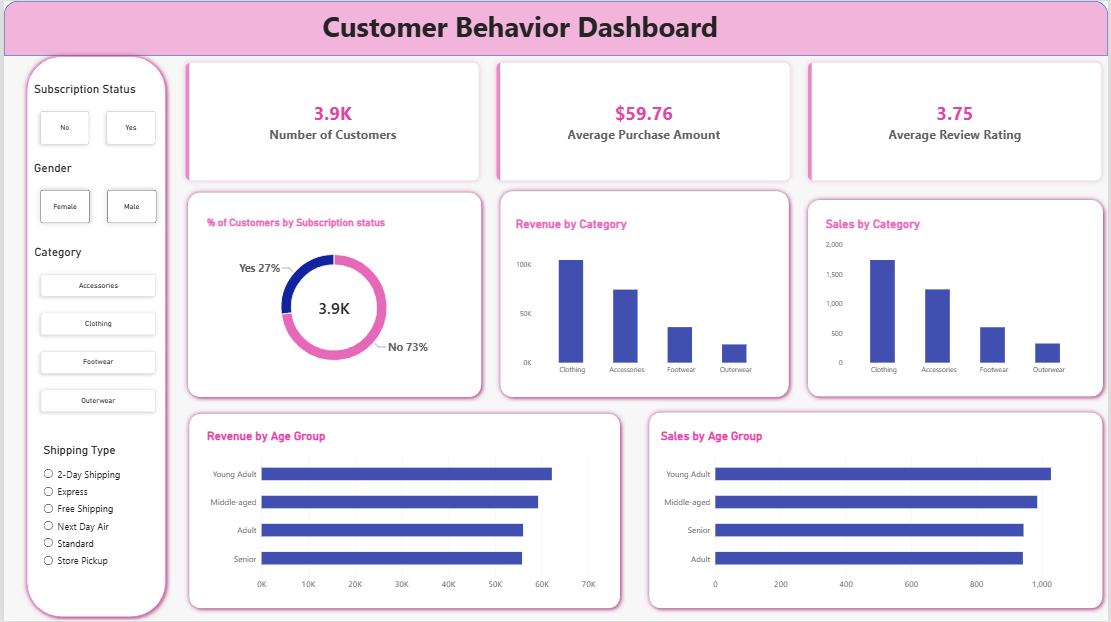

What the dashboard file says about the page in this screenshot:
{"tool":"powerbi","page":{"name":"Page 1","canvas":[1920,1080],"ordinal":0},"visuals":[{"type":"cardVisual","fields":{"Data":["customer_behavior customer.Number of Customers","customer_behavior customer.Average Purchase Amount","customer_behavior customer.Average Review Rating"]},"box":[304.4,95.6,1615.6,228.9],"z":0},{"type":"shape","box":[0,0,1920,95.6],"z":1000},{"type":"textbox","box":[0,11.1,1795.6,84.4],"z":2000},{"type":"shape","box":[310.9,323.9,528.3,373.9],"z":3000},{"type":"donutChart","title":"% of Customers by Subscription status","fields":{"Category":["customer_behavior customer.subscription_status"],"Y":["CountNonNull(customer_behavior customer.customer_id)"]},"box":[337,360.9,473.9,308.7],"z":4000},{"type":"shape","box":[854.3,321.7,519.6,376.1],"z":5000},{"type":"clusteredColumnChart","title":"Revenue by Category","fields":{"Category":["customer_behavior customer.category"],"Y":["Sum(customer_behavior customer.purchase_amount)"]},"box":[873.9,360.9,476.1,308.7],"z":6000},{"type":"shape","box":[1388.9,337.8,531.1,360],"z":8000},{"type":"clusteredColumnChart","title":"Sales by Category","fields":{"Category":["customer_behavior customer.category"],"Y":["CountNonNull(customer_behavior customer.customer_id)"]},"box":[1413,360.9,482.6,308.7],"z":9000},{"type":"shape","box":[31.1,86.7,260,993.3],"z":10000},{"type":"advancedSlicerVisual","fields":{"Values":["customer_behavior customer.subscription_status"]},"box":[51.1,142.2,222.2,120],"z":11000},{"type":"advancedSlicerVisual","fields":{"Values":["customer_behavior customer.gender"]},"box":[51.1,277.8,224.4,120],"z":12000},{"type":"advancedSlicerVisual","fields":{"Values":["customer_behavior customer.category"]},"box":[51.1,424.4,224.4,306.7],"z":13000},{"type":"listSlicer","fields":{"Values":["customer_behavior customer.shipping_type"]},"box":[51.1,753.3,224.4,273.3],"z":14000},{"type":"shape","box":[313,708.7,767.4,356.5],"z":15000},{"type":"shape","box":[1113,706.5,806.5,358.7],"z":16000},{"type":"clusteredBarChart","title":"Revenue by Age Group","fields":{"Category":["customer_behavior customer.age_group"],"Y":["Sum(customer_behavior customer.purchase_amount)"]},"box":[337,730.4,708.7,315.2],"z":17000},{"type":"clusteredBarChart","title":"Sales by Age Group","fields":{"Category":["customer_behavior customer.age_group"],"Y":["CountNonNull(customer_behavior customer.customer_id)"]},"box":[1126.1,730.4,769.6,315.2],"z":17001}]}

Visuals, with their boxes in screenshot pixels (x1, y1, x2, y2), scaled from the page's 1920x1080 canvas onto the 1111x622 screenshot:
cardVisual - customer_behavior customer.Number of Customers x customer_behavior customer.Average Purchase Amount: [x1=176, y1=55, x2=1110, y2=187]
shape: [x1=0, y1=0, x2=1110, y2=55]
textbox: [x1=0, y1=6, x2=1039, y2=55]
shape: [x1=180, y1=187, x2=486, y2=402]
"% of Customers by Subscription status" donutChart: [x1=195, y1=208, x2=469, y2=386]
shape: [x1=494, y1=185, x2=795, y2=402]
"Revenue by Category" clusteredColumnChart: [x1=506, y1=208, x2=781, y2=386]
shape: [x1=804, y1=195, x2=1110, y2=402]
"Sales by Category" clusteredColumnChart: [x1=818, y1=208, x2=1097, y2=386]
shape: [x1=18, y1=50, x2=168, y2=621]
advancedSlicerVisual - customer_behavior customer.subscription_status: [x1=30, y1=82, x2=158, y2=151]
advancedSlicerVisual - customer_behavior customer.gender: [x1=30, y1=160, x2=159, y2=229]
advancedSlicerVisual - customer_behavior customer.category: [x1=30, y1=244, x2=159, y2=421]
listSlicer - customer_behavior customer.shipping_type: [x1=30, y1=434, x2=159, y2=591]
shape: [x1=181, y1=408, x2=625, y2=613]
shape: [x1=644, y1=407, x2=1110, y2=613]
"Revenue by Age Group" clusteredBarChart: [x1=195, y1=421, x2=605, y2=602]
"Sales by Age Group" clusteredBarChart: [x1=652, y1=421, x2=1097, y2=602]
